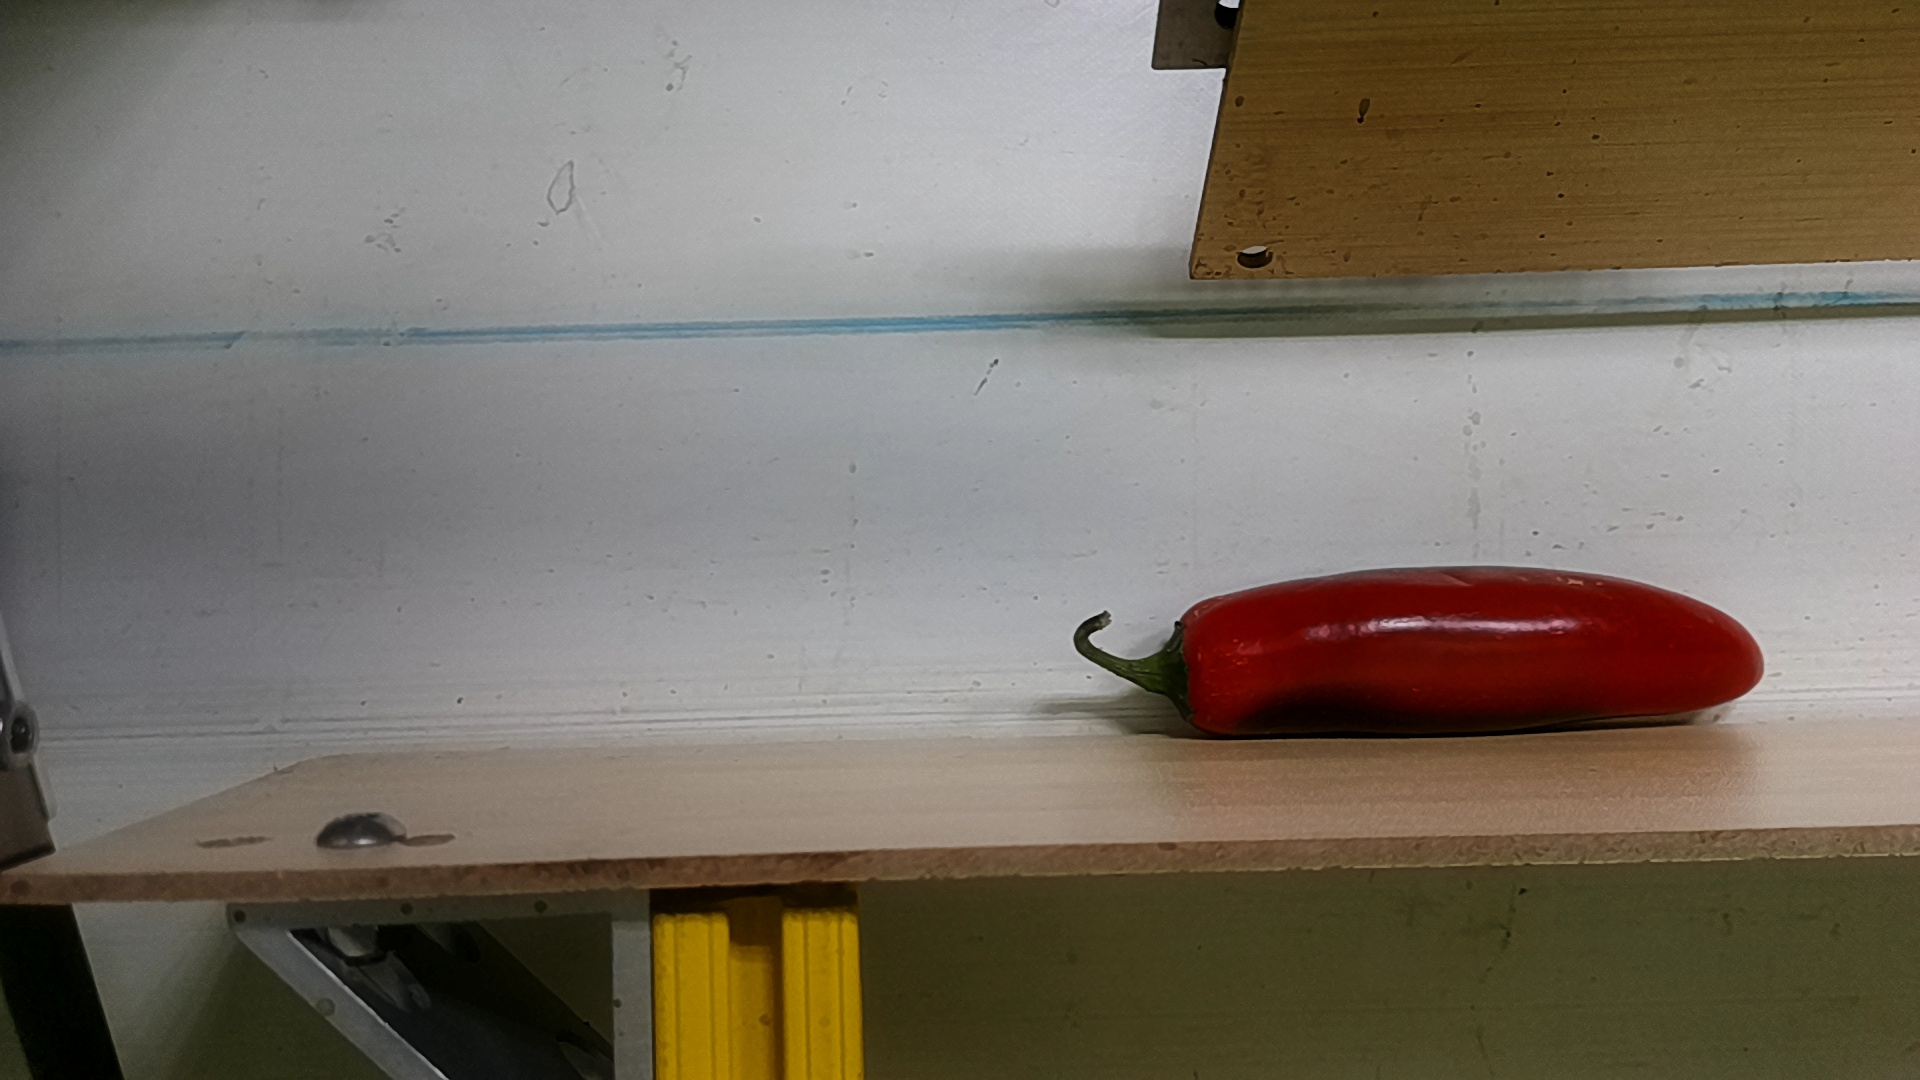Cut Point: (1153, 597, 1233, 741)
